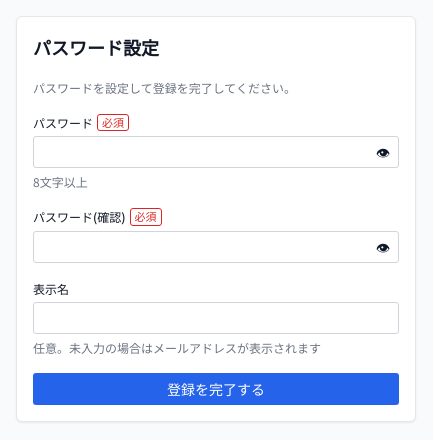
it: CompletePage › 成功で完了メッセージを表示
Type "long-enough-password" into the password field named "パスワード必須" at (216, 152), box top-left (33, 136), bottom-right (399, 168)
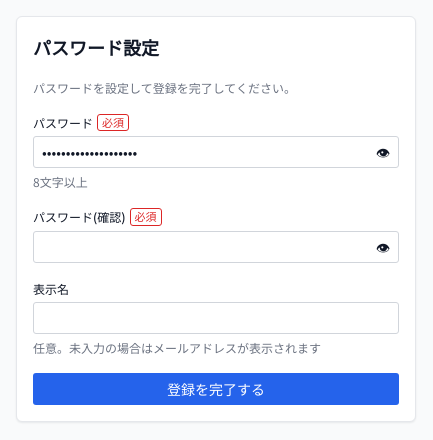
Type "long-enough-password" into the password field named "パスワード(確認)必須" at (216, 247), box top-left (33, 231), bottom-right (399, 263)
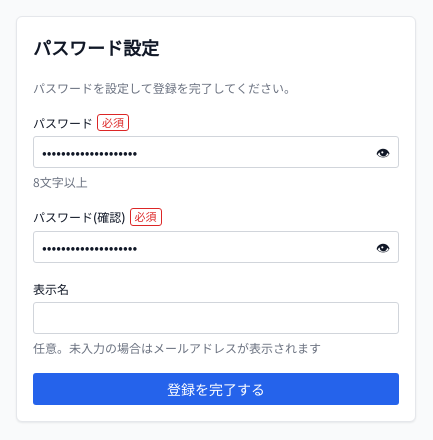
Click the button "登録を完了する" at (216, 389), box top-left (33, 373), bottom-right (399, 405)
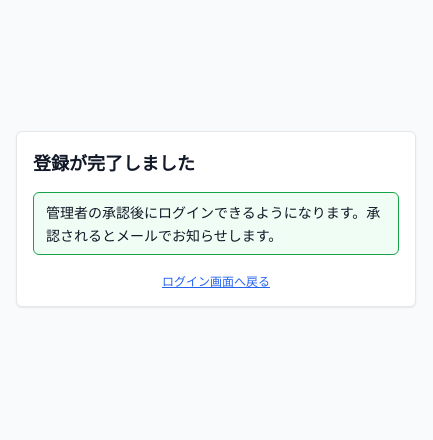
Expected: the heading "登録が完了しました" is shown, top-left (33, 149), bottom-right (195, 175)
Expected: the text "管理者の承認後にログインできるようになります。承認されるとメールでお知らせします。" is shown, top-left (33, 192), bottom-right (399, 255)
